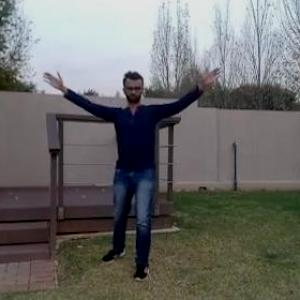takeoff: (50, 68, 212, 264)
